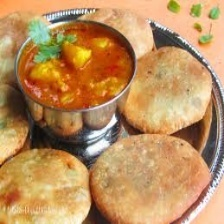sabzi: (15, 19, 139, 112)
